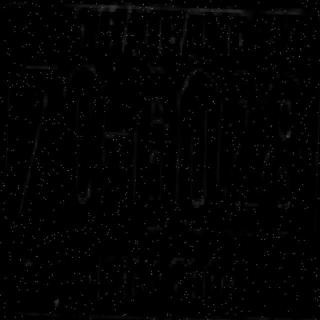N00: (176, 71, 218, 222), (61, 67, 103, 218)
N02: (220, 74, 259, 225)
N06: (134, 72, 176, 220)
N07: (18, 65, 60, 220)
N08: (262, 74, 303, 225)
P25: (74, 240, 245, 314)
